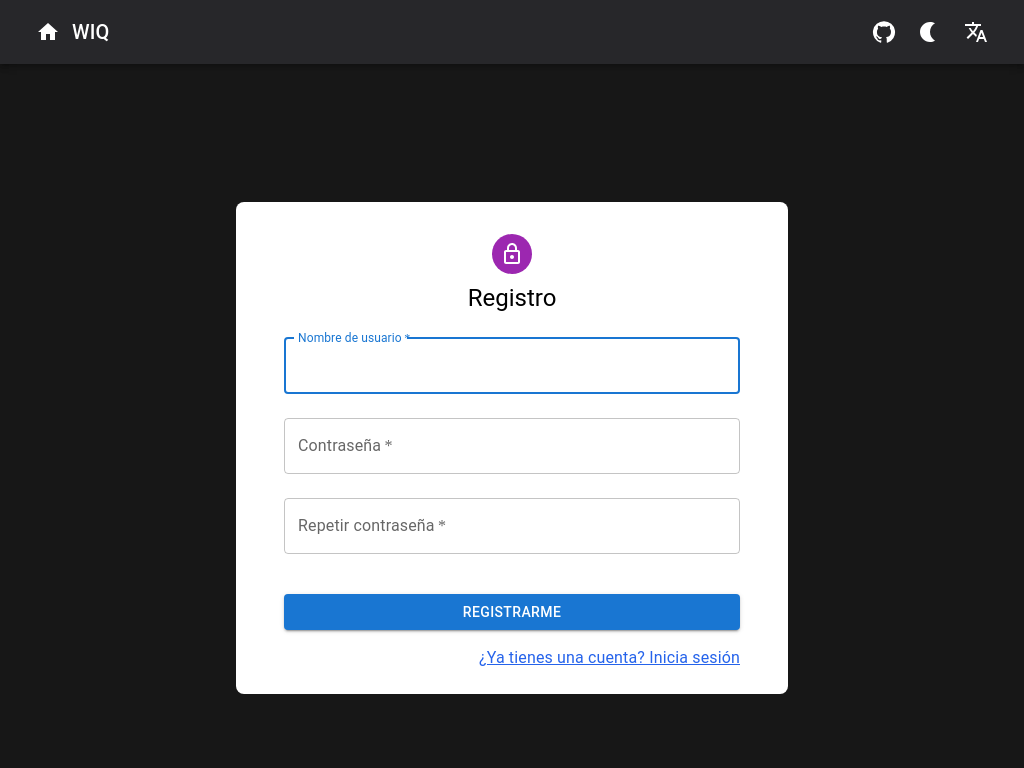
Test case: AddUser Component › submit the form with different passwords
Type "validUsername" into the field labelled "Nombre de usuario *" at (512, 366), box [284,338,740,394]
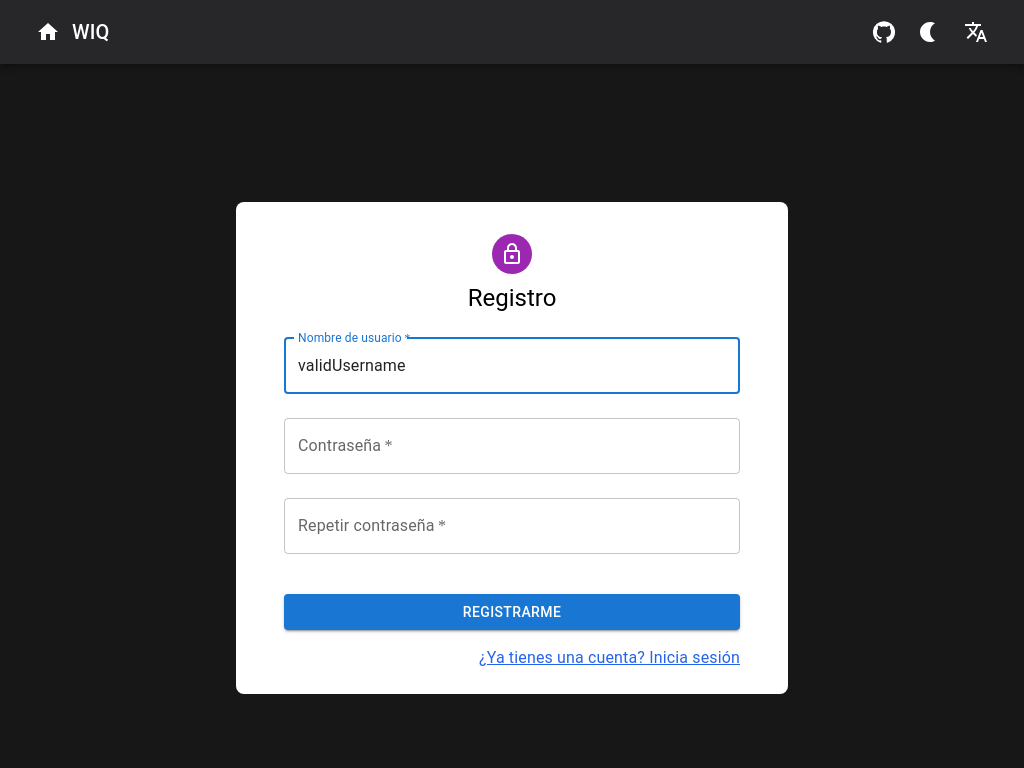
Type "validPassword" into the password field labelled "Contraseña *" at (512, 446), box [284,418,740,474]
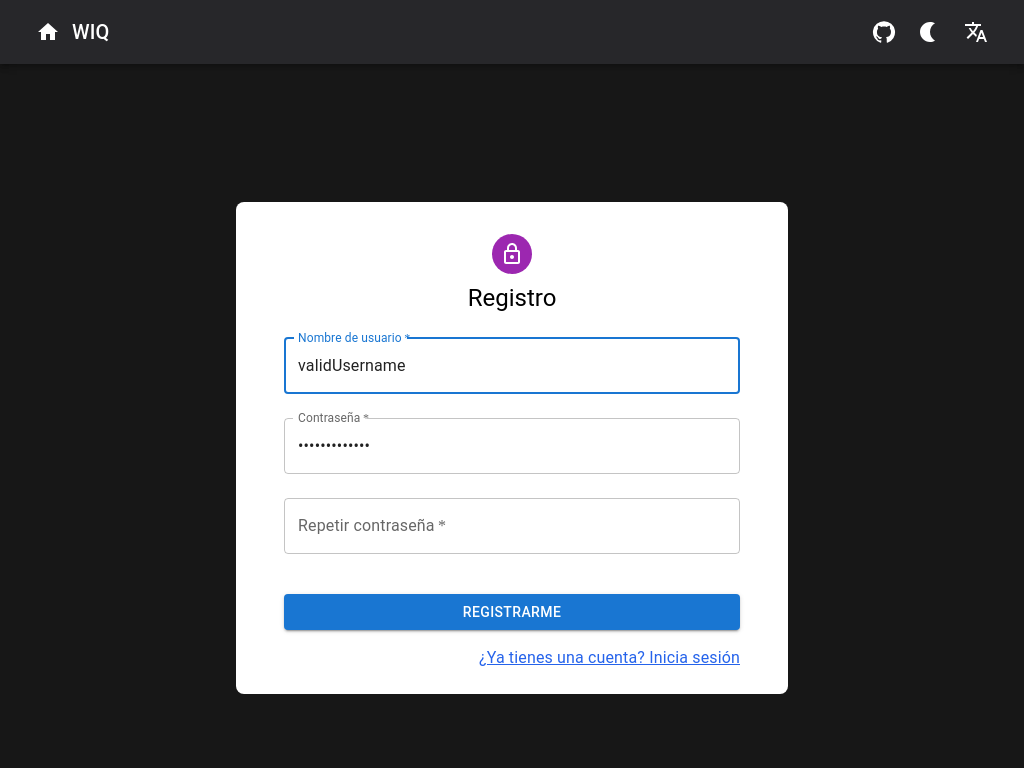
Type "invalidPassword" into the password field labelled "Repetir contraseña *" at (512, 526), box [284,498,740,554]
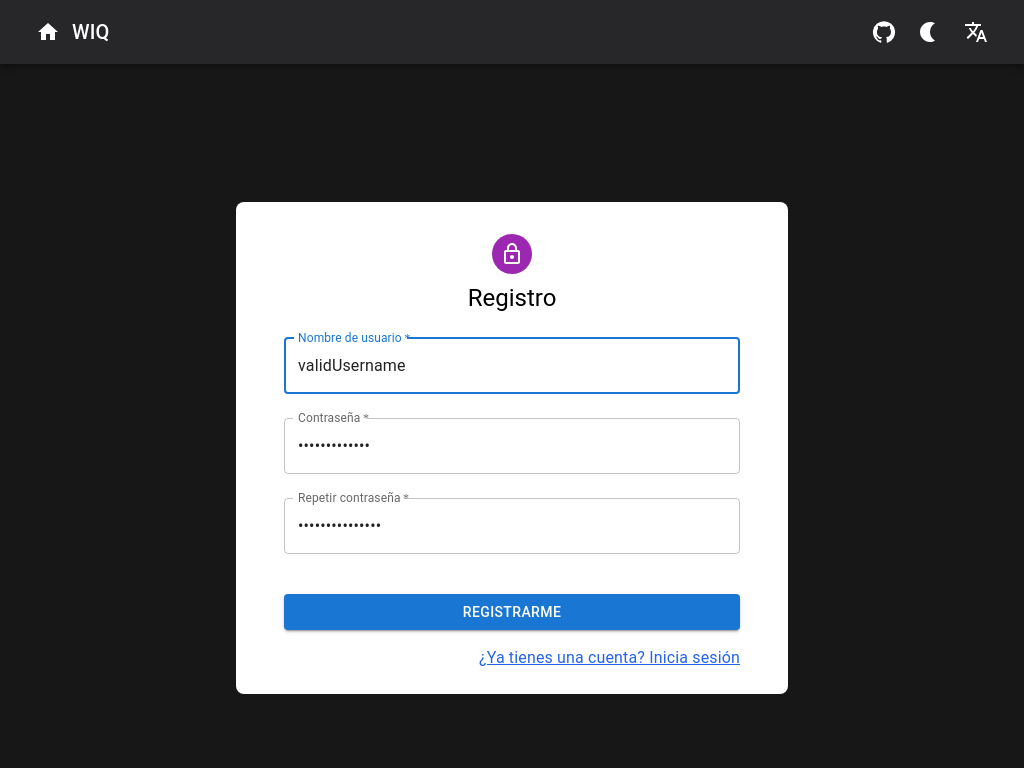
Submit the form from the button "Registrarme", box [284,594,740,630]
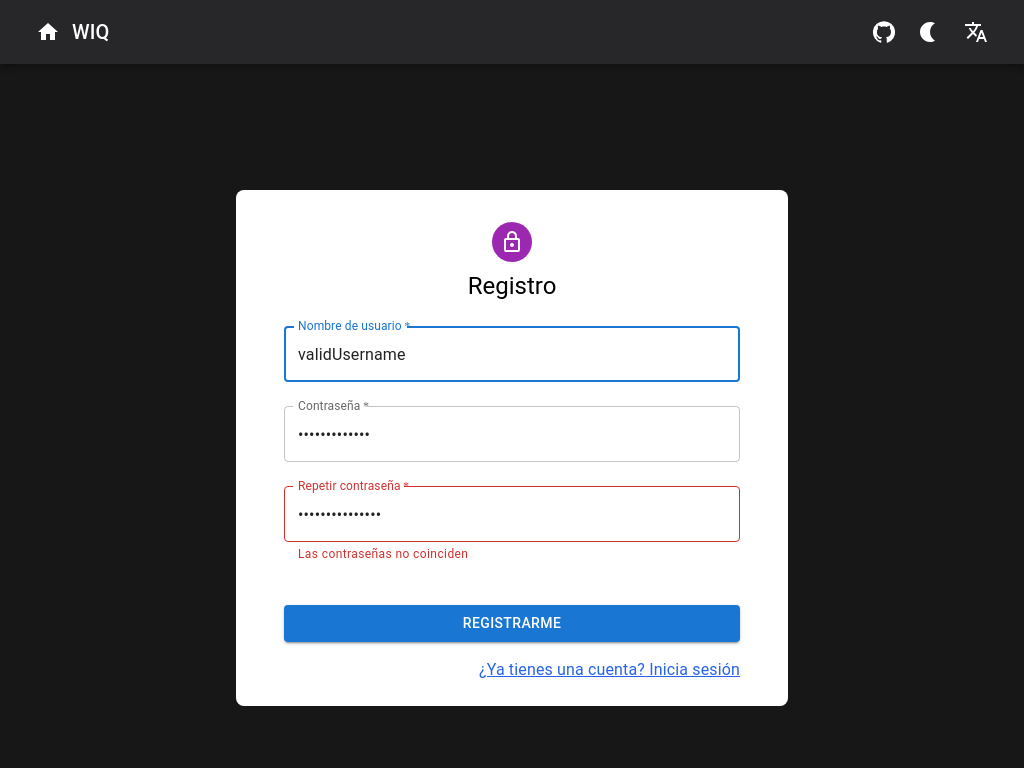
expect the text "Las contraseñas no coinciden" is shown: met, box [298,547,468,561]
